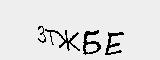Б: (82, 27, 101, 56)
Е: (106, 30, 124, 56)
Ж: (56, 28, 80, 53)
З: (34, 24, 47, 44)
Т: (45, 28, 58, 46)
